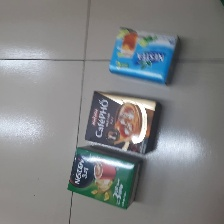CF pho: (83, 90, 162, 155)
Nes Rang: (66, 147, 143, 209)
Nestea: (108, 26, 181, 86)
